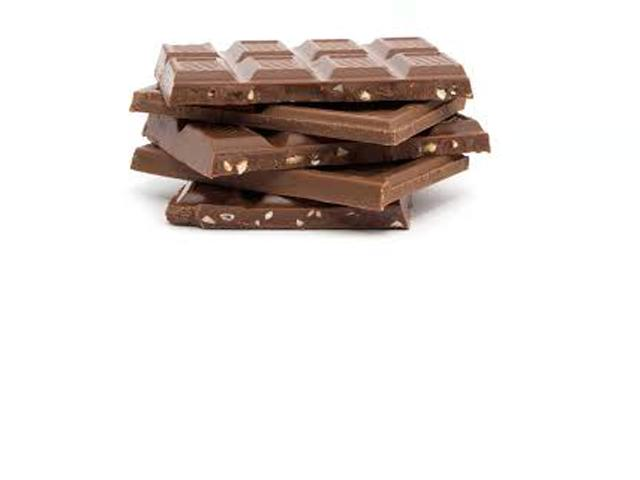chocolate: (136, 116, 466, 249)
